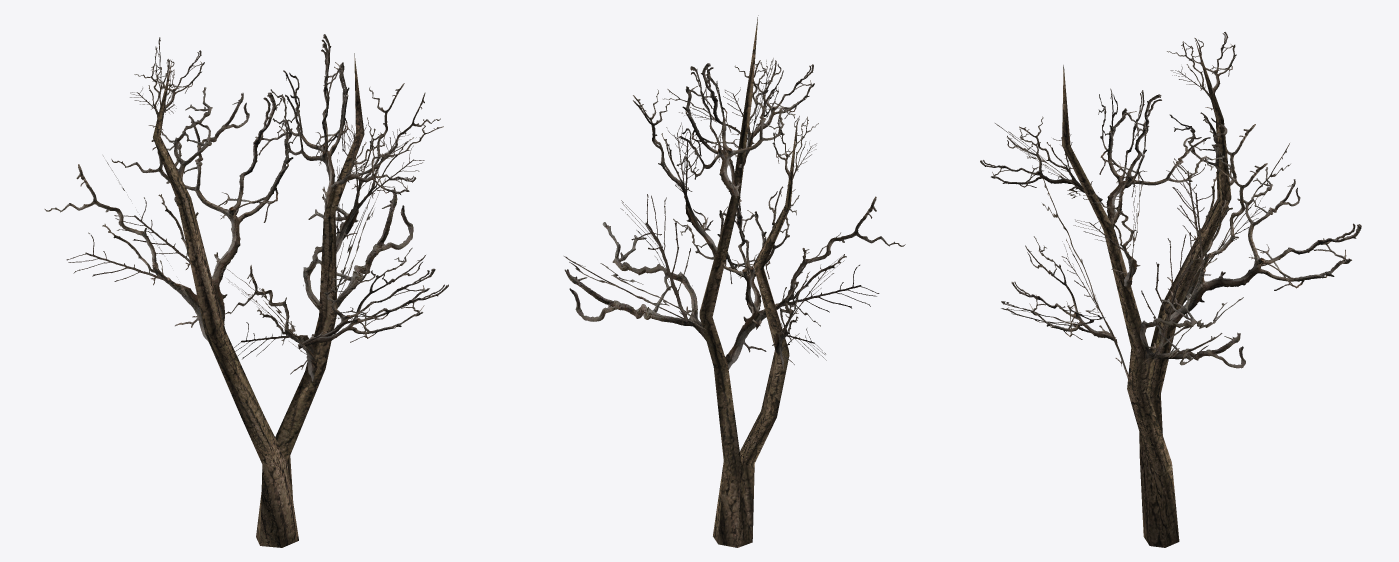
The model's file is Vegetation_Deadtree01a.glb.
The picture shows the model from 3 angles, left to right: view 1: azimuth 30°, elevation 25°; view 2: azimuth 150°, elevation 25°; view 3: azimuth 270°, elevation 25°; orthographic projection. The views are drawn at different scales.
Visible parts, largest first — view 1: xiutz_deadtree01a; view 2: xiutz_deadtree01a; view 3: xiutz_deadtree01a.
Part boxes in pixels (x1,y1,x2,y2): xiutz_deadtree01a: [44, 34, 448, 547]; xiutz_deadtree01a: [564, 15, 905, 547]; xiutz_deadtree01a: [980, 32, 1361, 547].
Bounding box in the file's own units: 6.62 × 8.19 × 6.33.
Materials: 1 (1 with a texture image).
